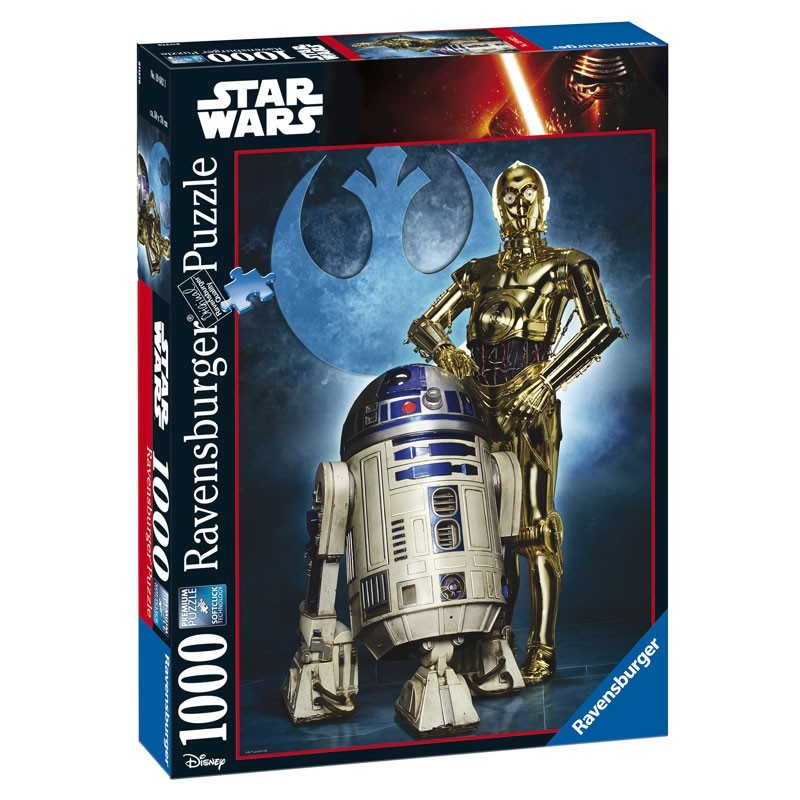r2d2: (308, 364, 518, 724)
